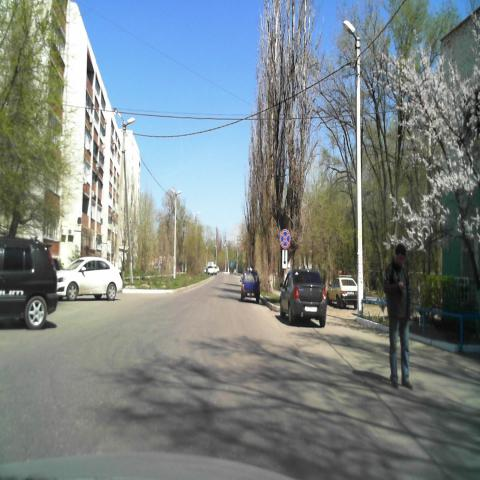8_2_3: (282, 249, 288, 271)
